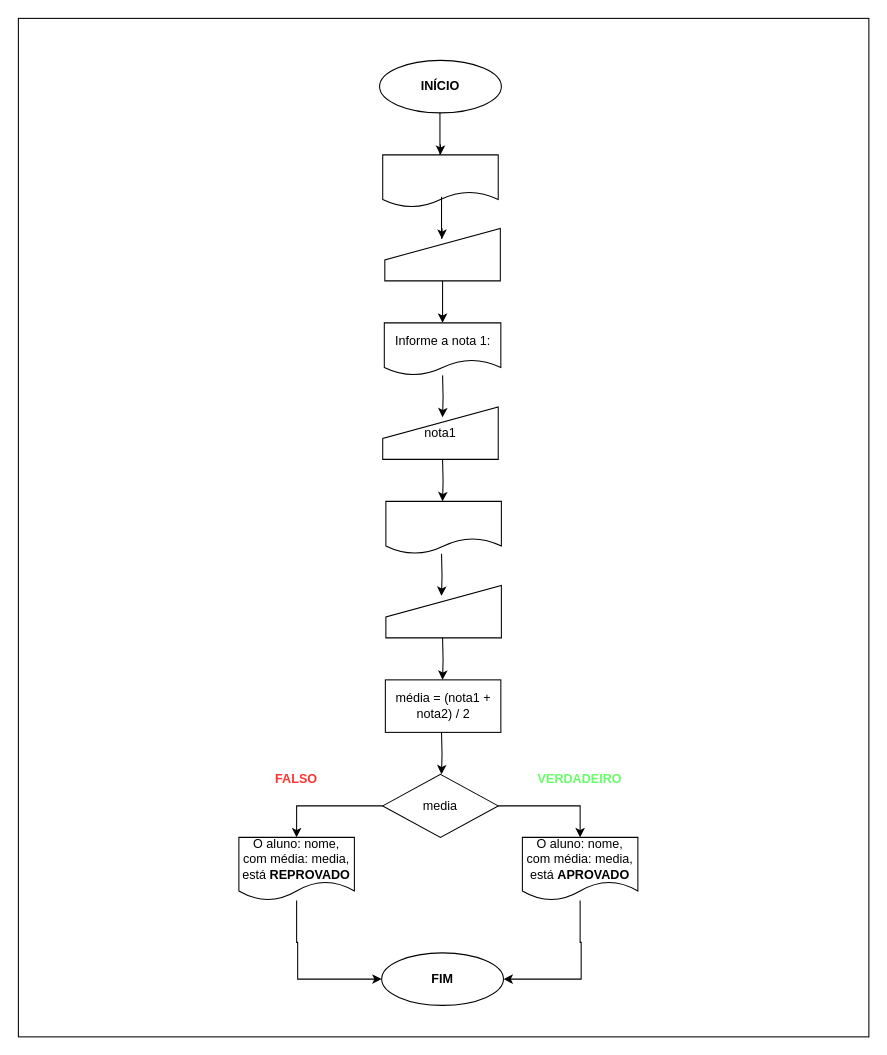
This 887x1055 diagram has some shape labels left out. Here are the shapes that lost their labels. From the top down, the centre of each, then its label:
At (440,180): "Informe seu nome:".
At (442,254): "nome".
At (443,527): "Informe a nota 2:".
At (443,611): "nota2".
